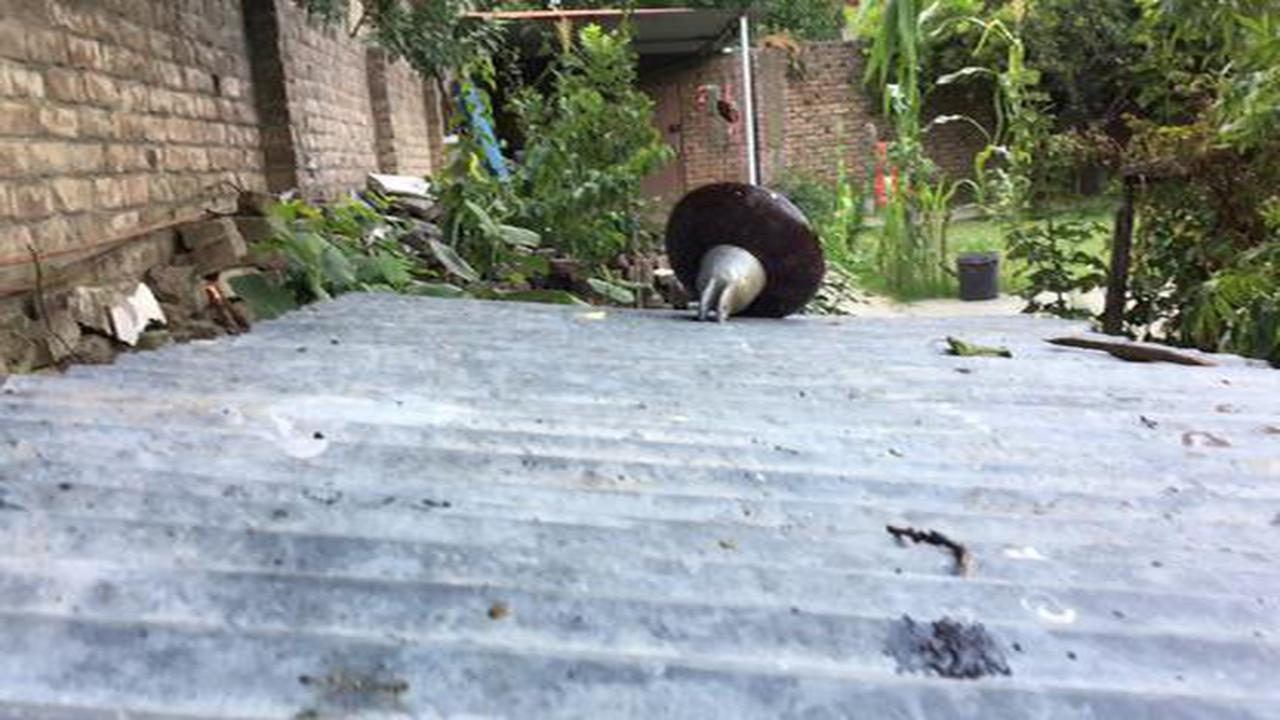insulator_disc: (660, 173, 836, 332)
